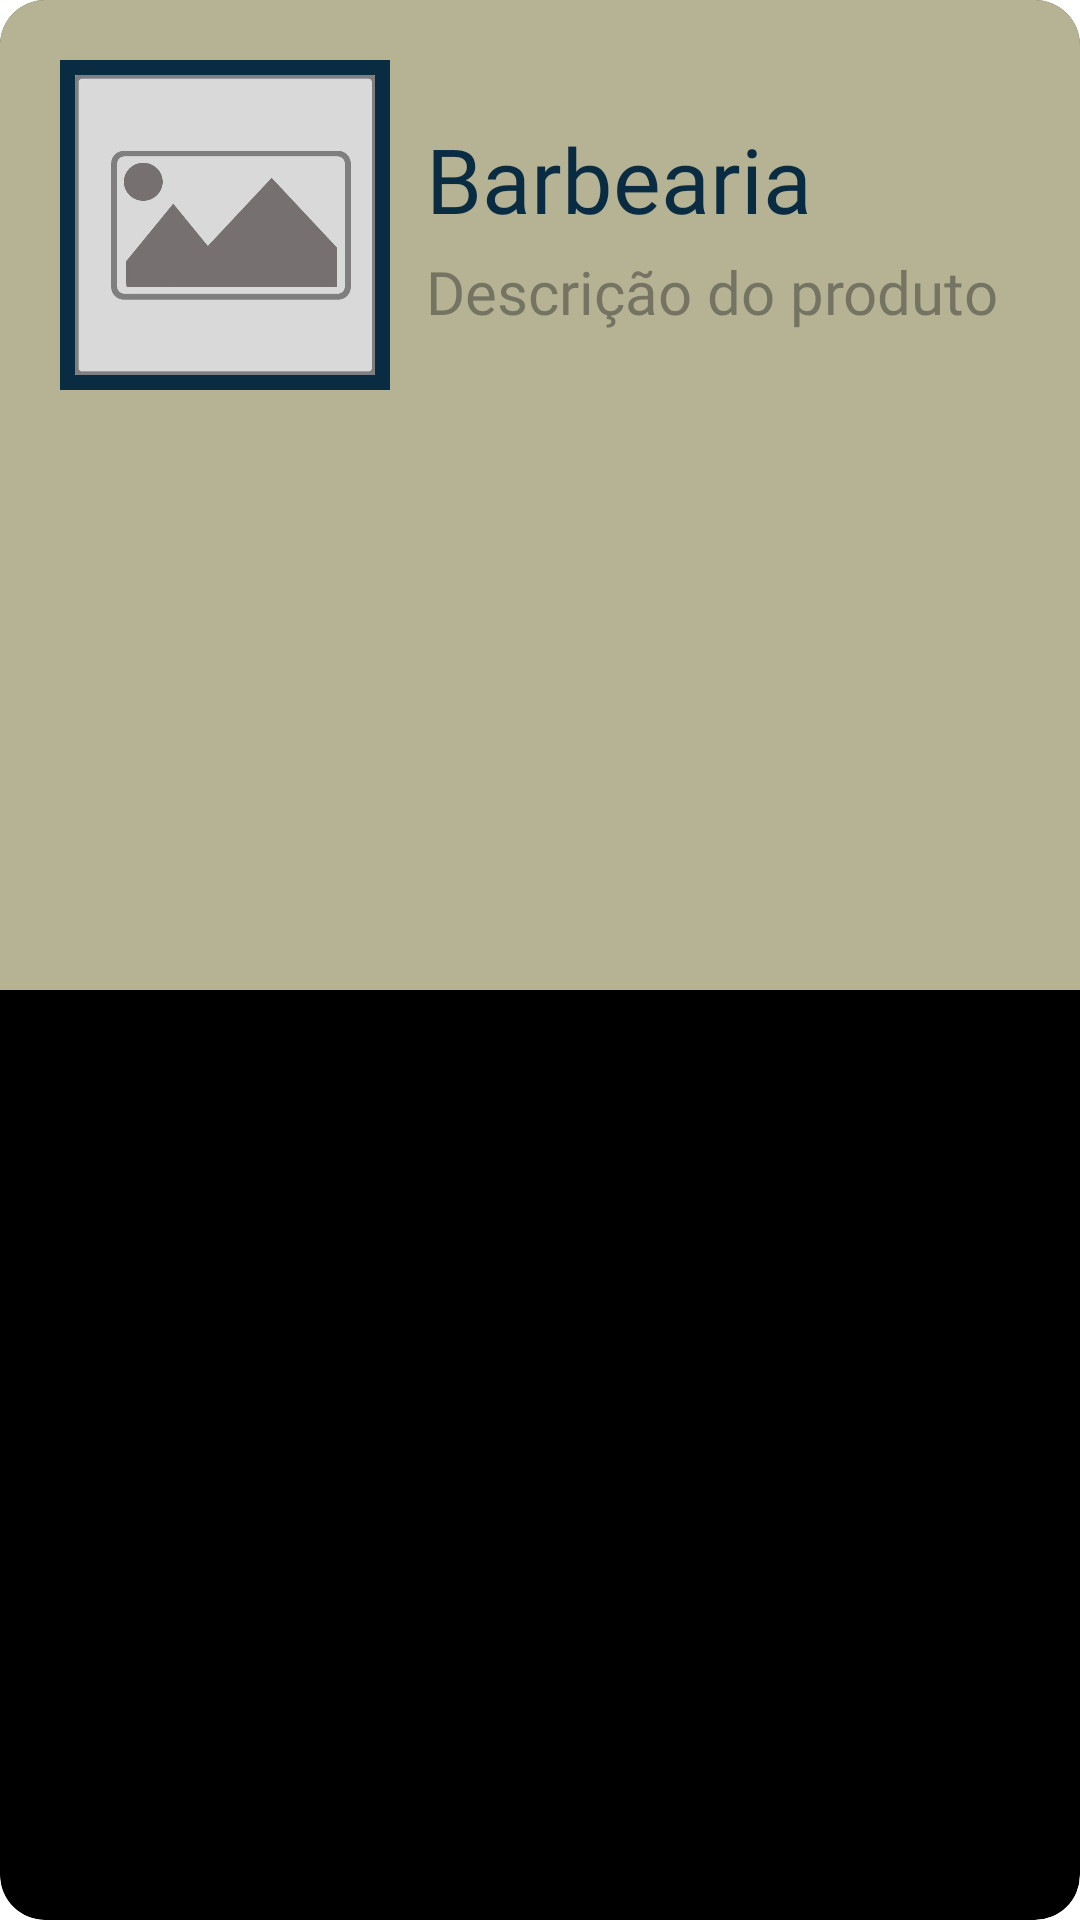

Named icons in this screenshot (1080*1920) and their centers, point (x, y):
foto imagem: point (225, 225)
